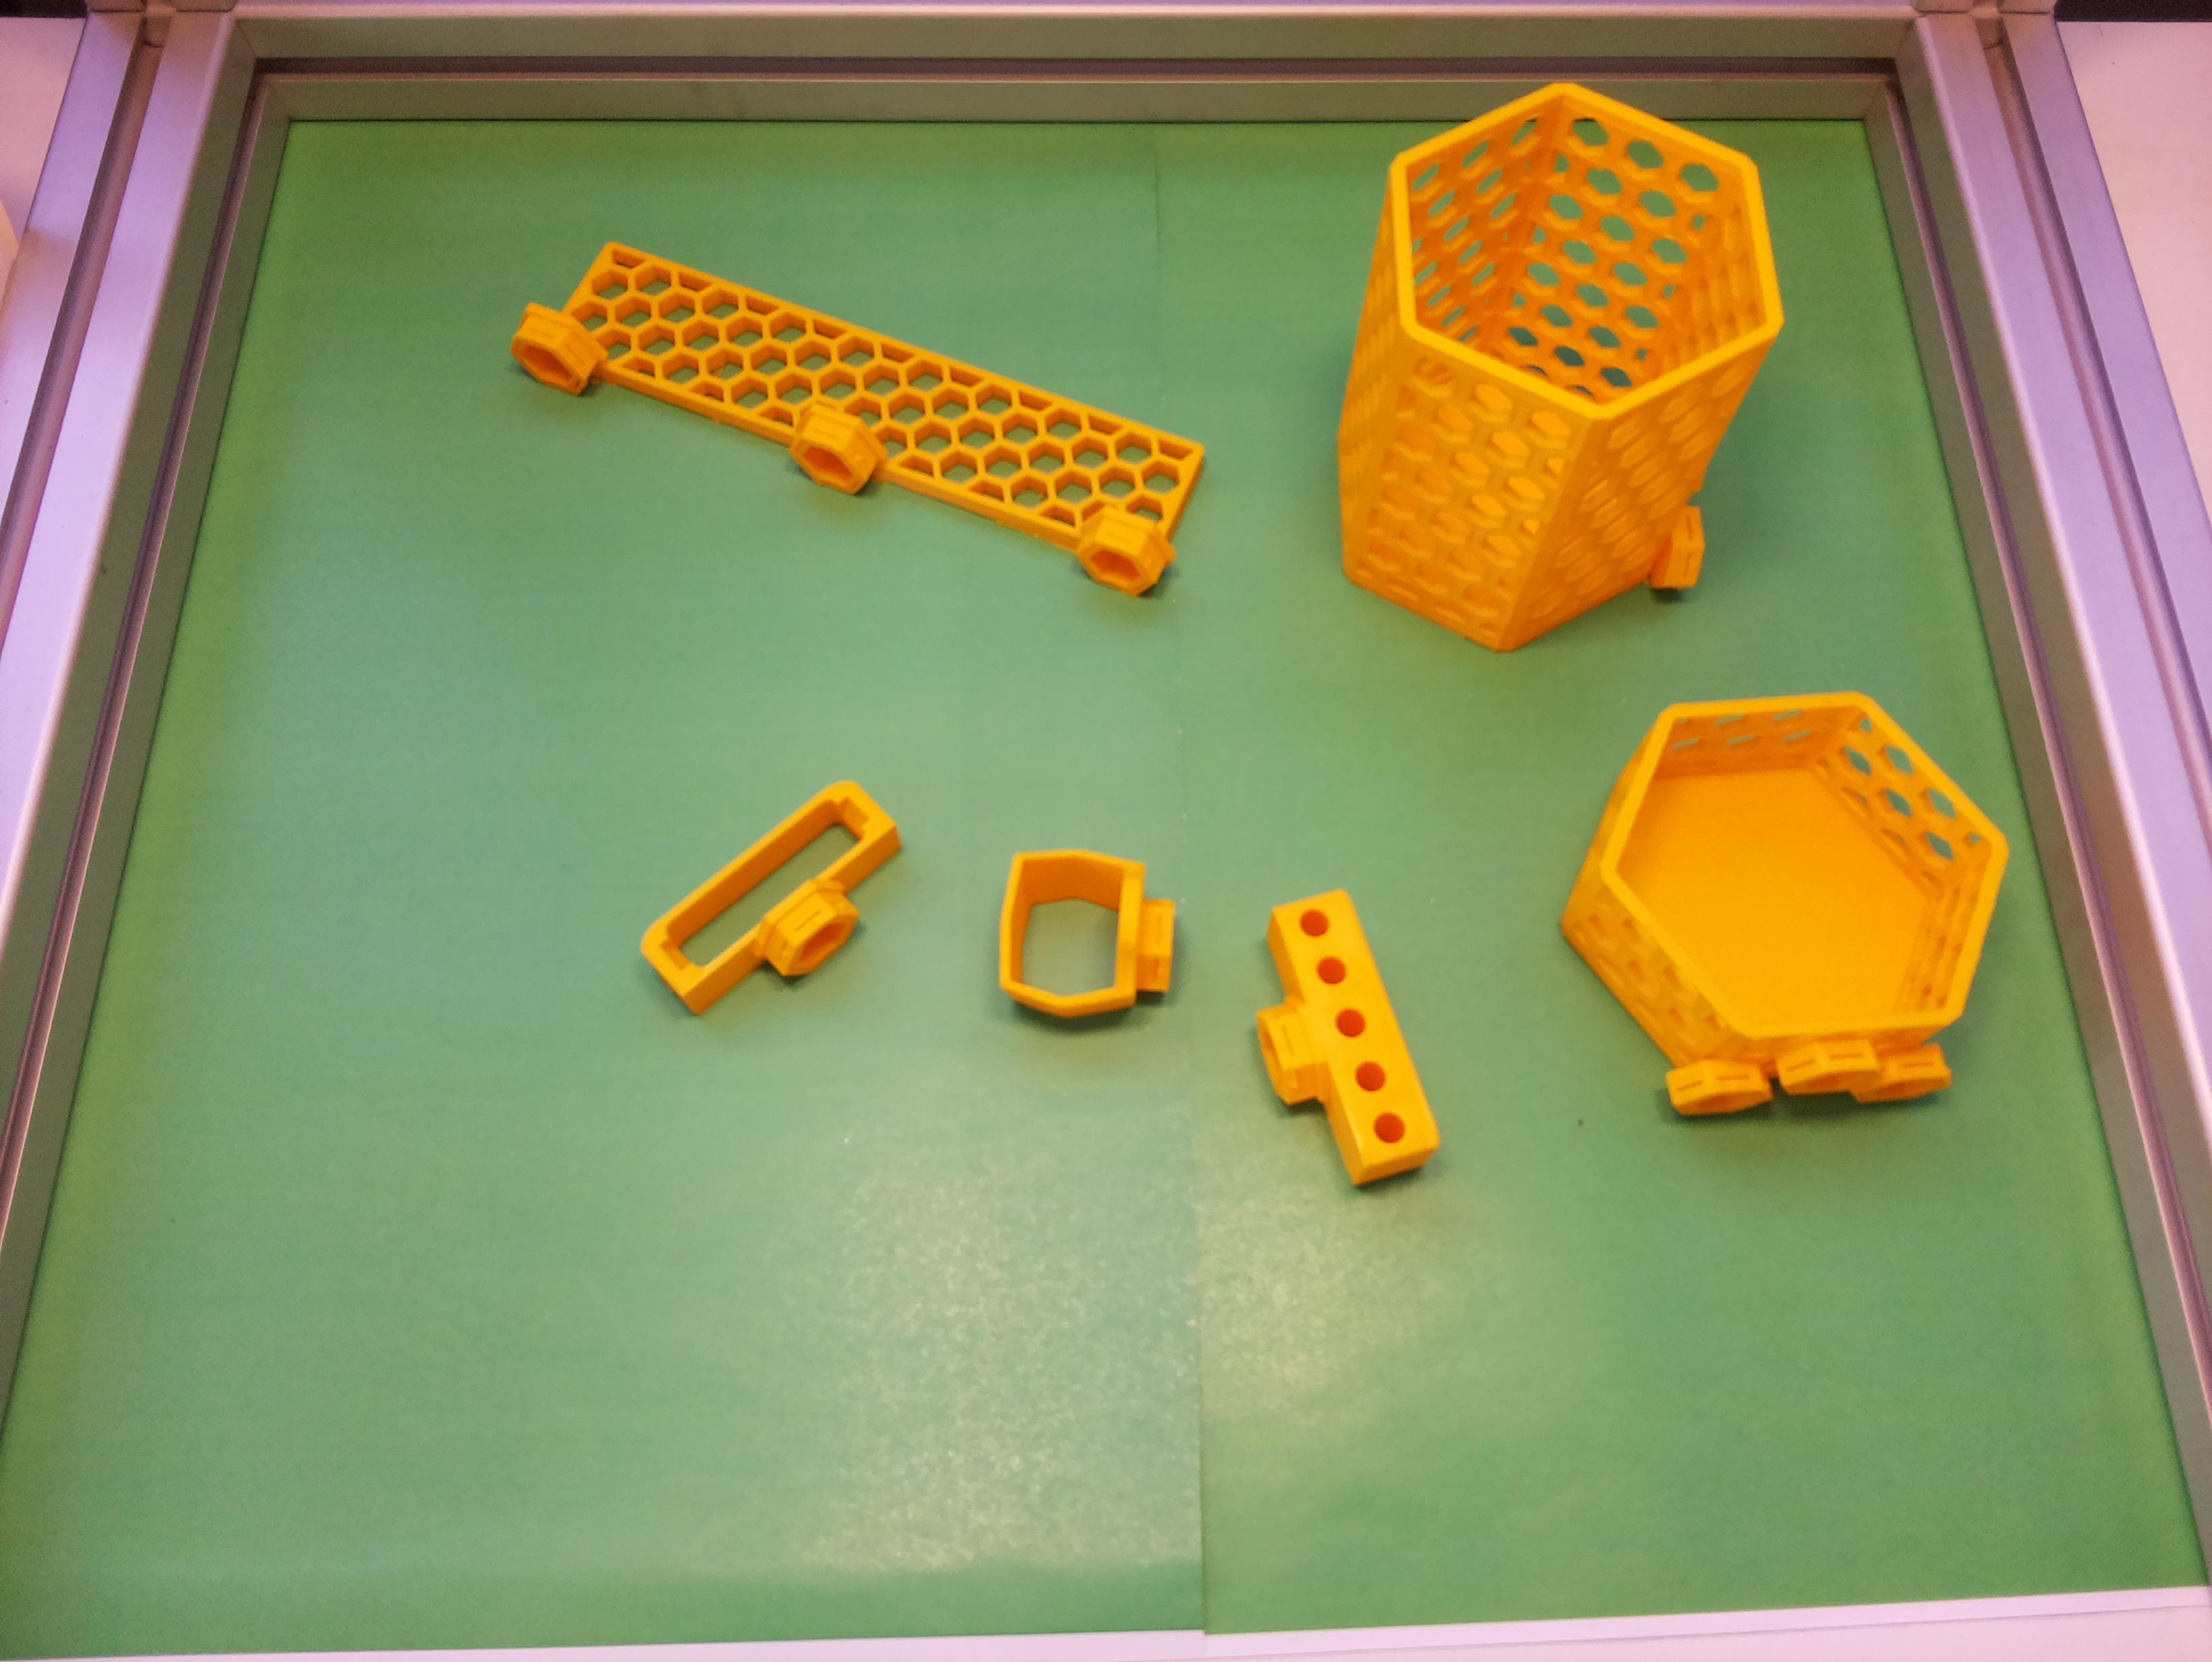bit_holder: (1213, 882, 1449, 1205)
bottle_holder: (1547, 681, 2027, 1124)
cup_holder: (1255, 37, 1833, 704)
cutter_holder: (632, 768, 934, 1046)
scissor_holder: (995, 848, 1177, 1023)
tool_holder: (499, 222, 1210, 604)
